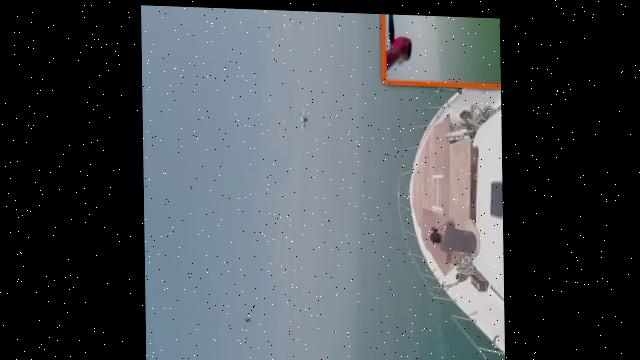drone: (290, 101, 311, 137), (231, 308, 260, 332)
